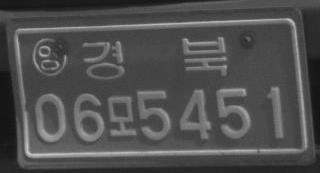0: (33, 92, 66, 143)
1: (260, 85, 291, 139)
4: (179, 88, 211, 140)
5: (215, 87, 251, 141), (136, 89, 171, 141)
6: (71, 91, 105, 144)
경북_D: (80, 35, 228, 80)
모: (106, 94, 137, 137)
영: (32, 36, 68, 76)
